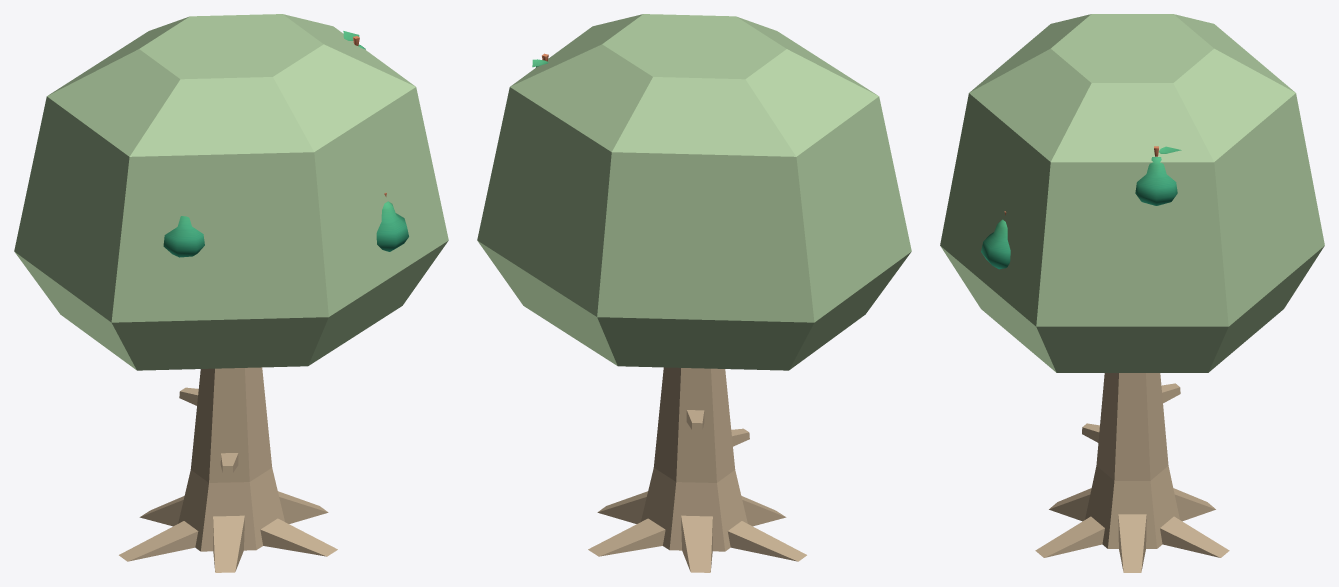
File: crafted-pear-tree-ready.glb
3 renders of one model, left to right at view 1: azimuth 30°, elevation 25°; view 2: azimuth 150°, elevation 25°; view 3: azimuth 270°, elevation 25°, orthographic.
Parts seen in each view (by area): view 1: tree-0, tree-1, fruit-0, fruit-1; view 2: tree-0, tree-1; view 3: tree-0, tree-1, fruit-2, fruit-1.
Part boxes in pixels (bbox=[...]): tree-0: bbox=[14, 14, 448, 370]; tree-1: bbox=[119, 367, 337, 572]; fruit-0: bbox=[163, 216, 204, 257]; fruit-1: bbox=[376, 192, 408, 251]; tree-0: bbox=[477, 14, 911, 370]; tree-1: bbox=[588, 367, 806, 572]; tree-0: bbox=[940, 14, 1324, 372]; tree-1: bbox=[1035, 373, 1229, 572]; fruit-2: bbox=[1135, 146, 1181, 205]; fruit-1: bbox=[981, 211, 1010, 269].
Bounding box in the file's own units: 1.6 × 2.2 × 1.6.
5 materials, 3 textured.
